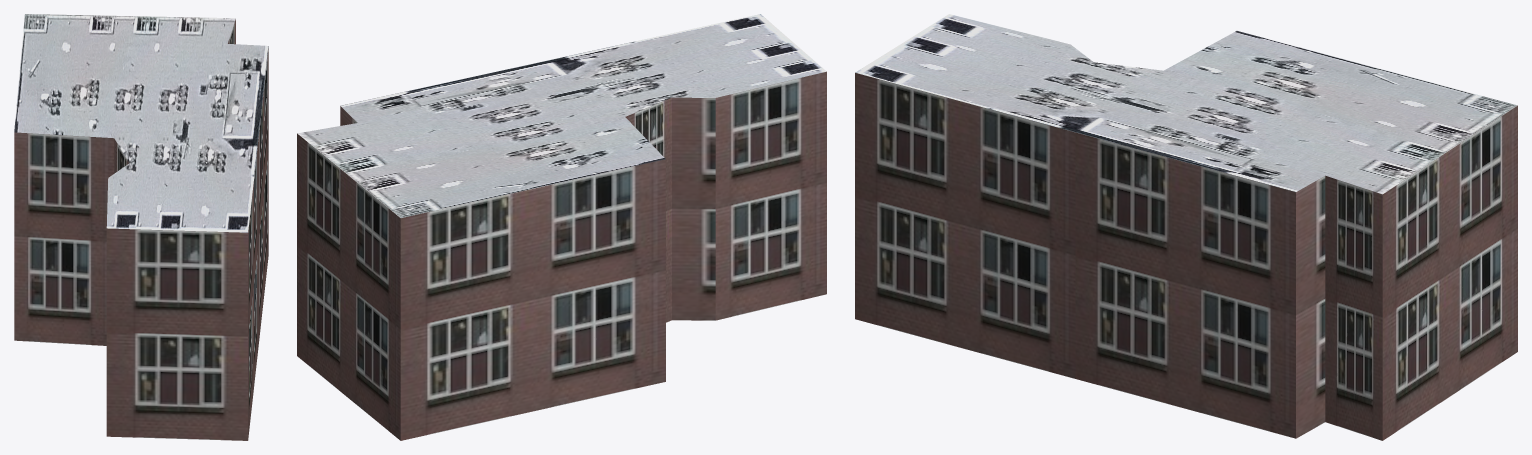
The model's file is ResTex__3273.fbx.
3 views of the same model, side by side, from view 1: azimuth 30°, elevation 25°; view 2: azimuth 150°, elevation 25°; view 3: azimuth 270°, elevation 25° (orthographic). The views are drawn at different scales.
Parts seen in each view (by area): view 1: CityEngineMaterial_12_m, CityEngineMaterial_m; view 2: CityEngineMaterial_12_m, CityEngineMaterial_m; view 3: CityEngineMaterial_12_m, CityEngineMaterial_m.
Part boxes in pixels (x1,y1,x2,y2): CityEngineMaterial_12_m: (14, 19, 268, 440); CityEngineMaterial_m: (14, 14, 268, 232); CityEngineMaterial_12_m: (297, 71, 826, 440); CityEngineMaterial_m: (297, 14, 826, 217); CityEngineMaterial_12_m: (855, 72, 1517, 440); CityEngineMaterial_m: (855, 14, 1517, 194).
Bounding box in the file's own units: 9.42 × 6 × 14.62.
Materials: 2 (2 with a texture image).
